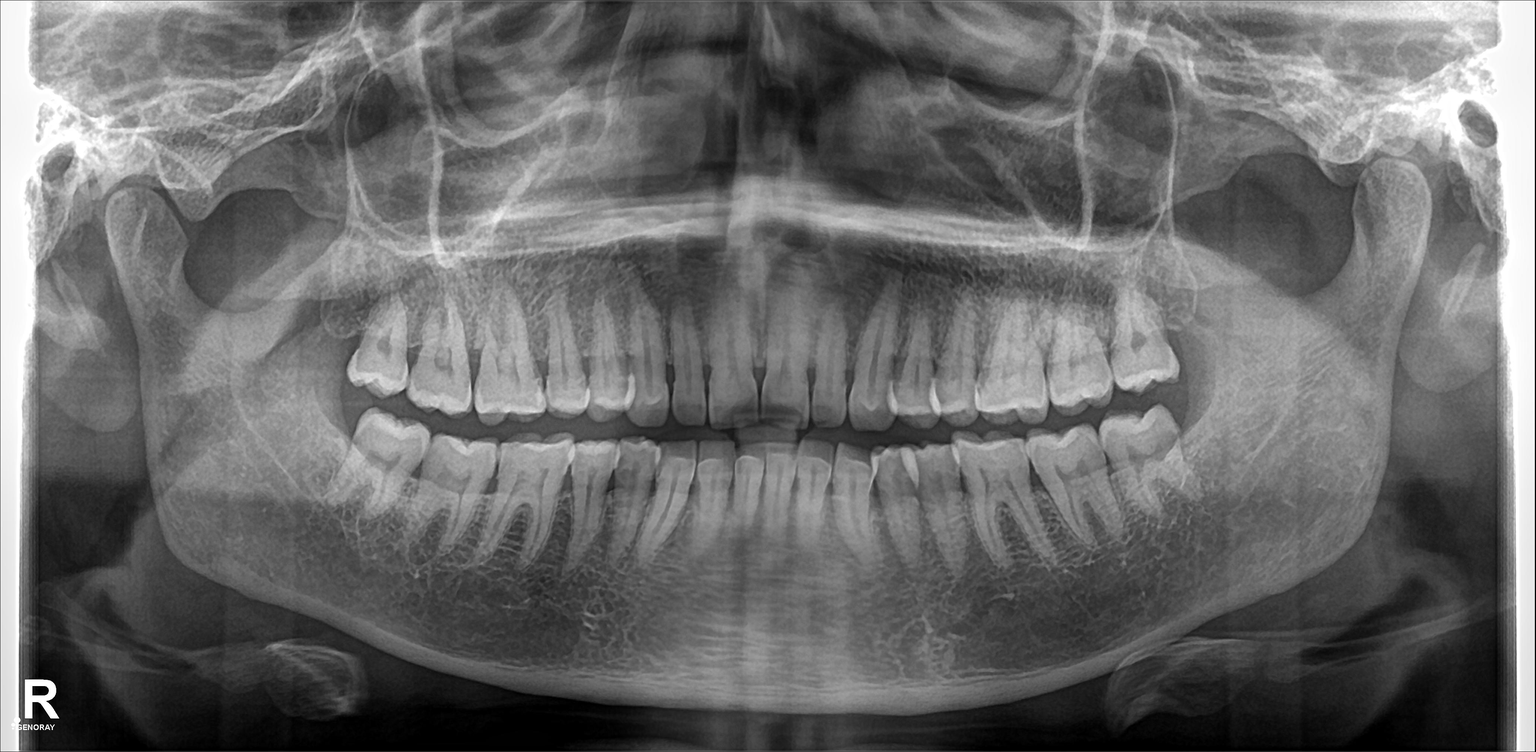Missing Tooth: (307, 277, 358, 377)
